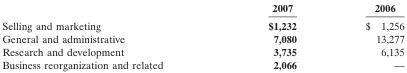table: (1, 1, 403, 70)
table column: (1, 1, 215, 70), (215, 1, 330, 70), (330, 1, 403, 70)
table column header: (1, 1, 403, 16)
table row: (1, 1, 403, 16), (1, 16, 403, 31), (1, 31, 403, 44), (1, 44, 403, 57), (1, 57, 403, 70)
